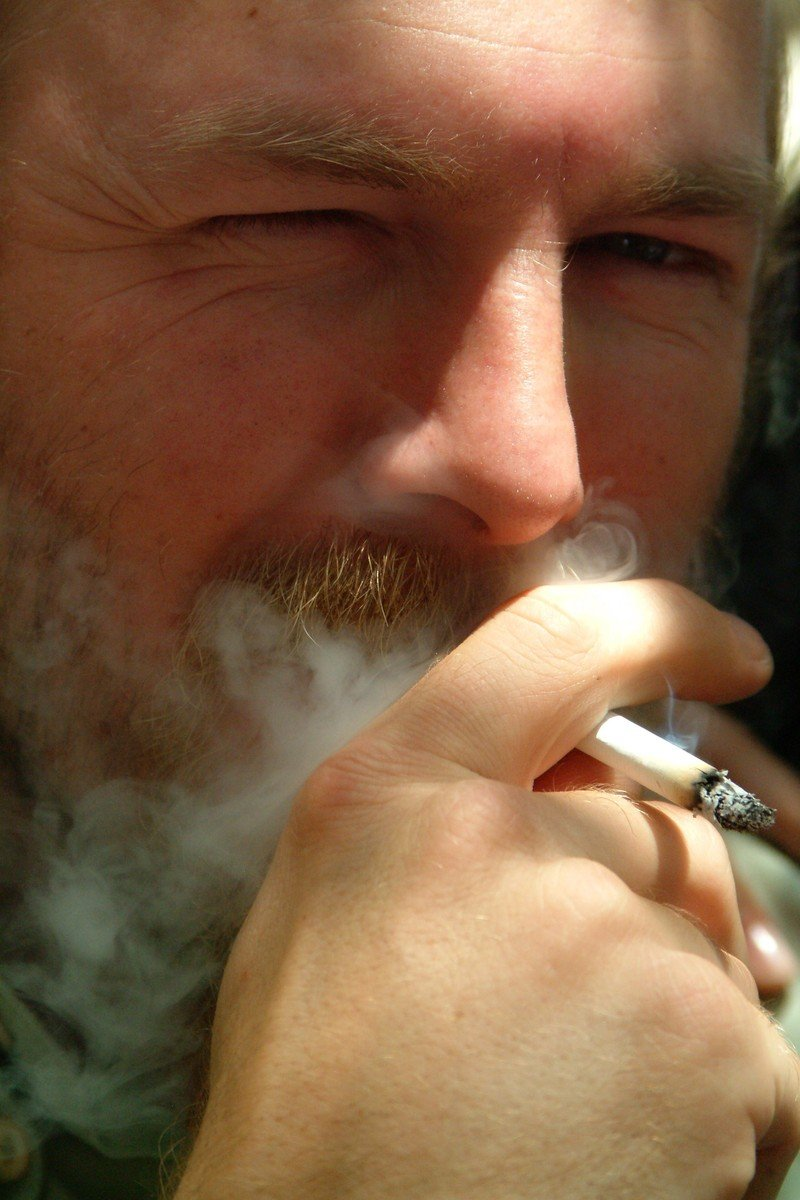cigarette: (570, 693, 770, 823)
